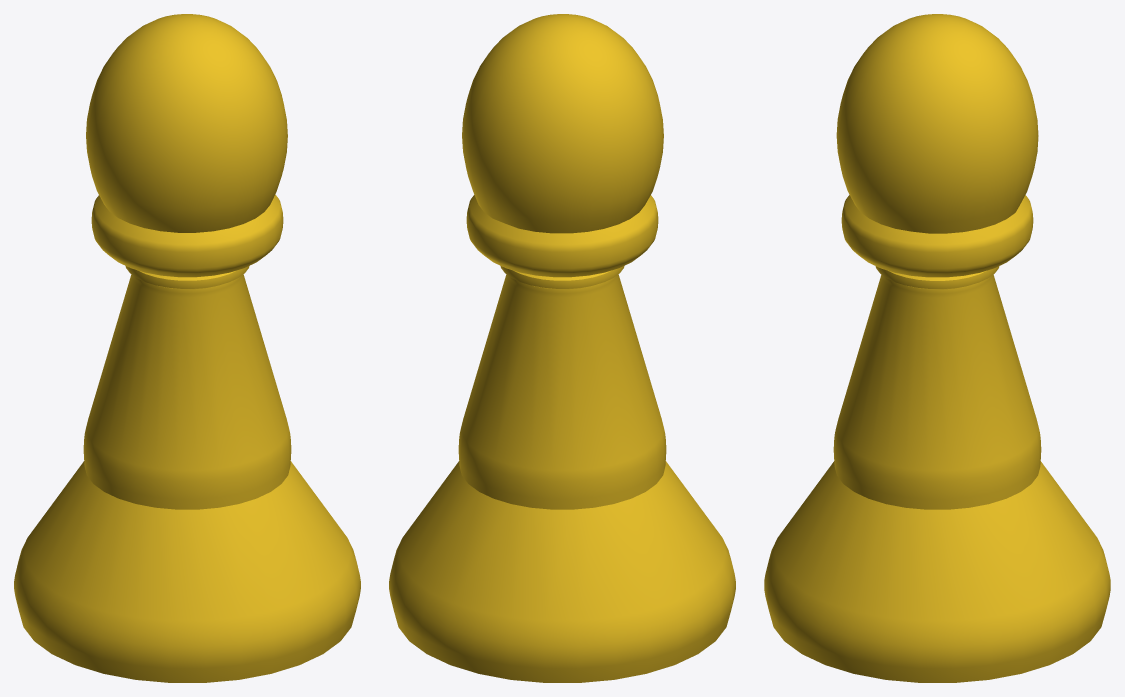
File: yellow.glb
The picture shows the model from 3 angles, left to right: view 1: azimuth 30°, elevation 25°; view 2: azimuth 150°, elevation 25°; view 3: azimuth 270°, elevation 25°; orthographic projection.
Visible parts, largest first — view 1: yellow; view 2: yellow; view 3: yellow.
Boxes of the visible parts, x1=… form: yellow: x1=14, y1=14, x2=360, y2=682; yellow: x1=389, y1=14, x2=735, y2=682; yellow: x1=764, y1=14, x2=1110, y2=682.
Bounding box in the file's own units: 0.0242 × 0.0458 × 0.0243.
